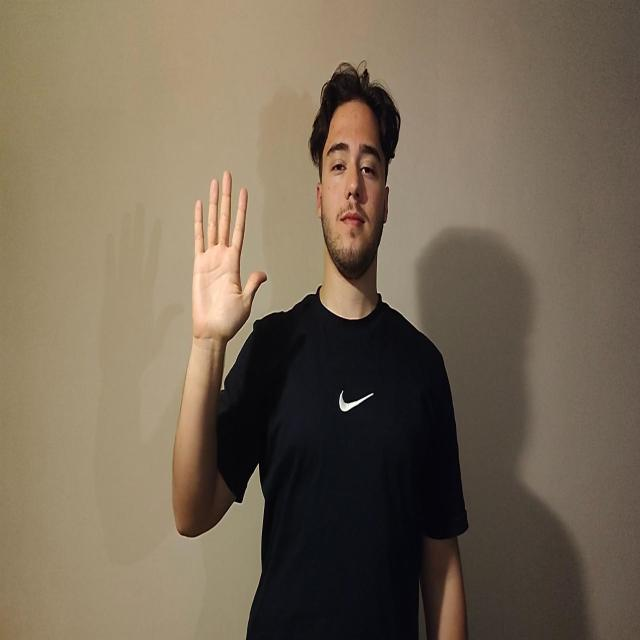hello: (191, 169, 267, 344)
